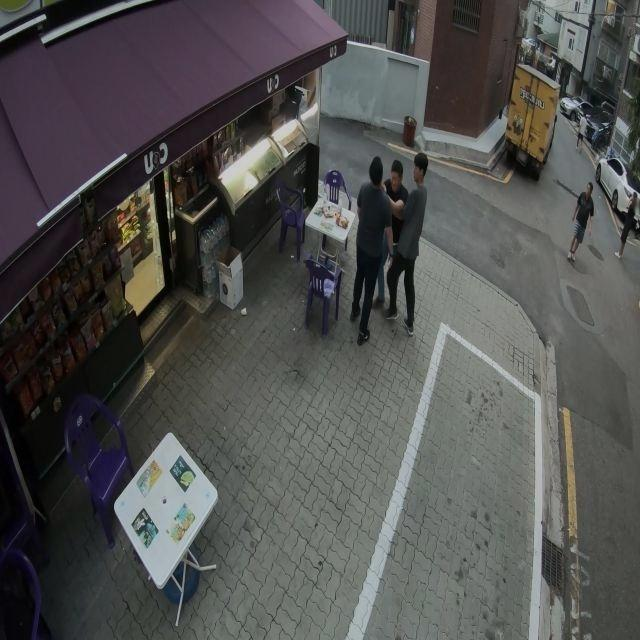fight: (349, 149, 428, 345)
non-fight: (568, 176, 597, 264)
